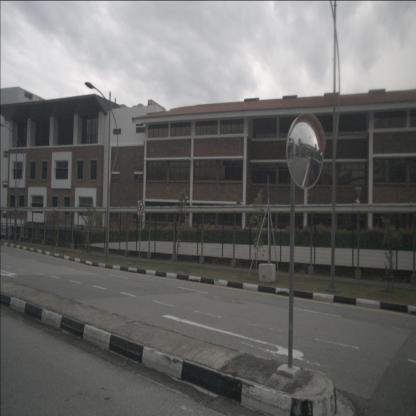vehicle-bicycle: (81, 235, 90, 252)
